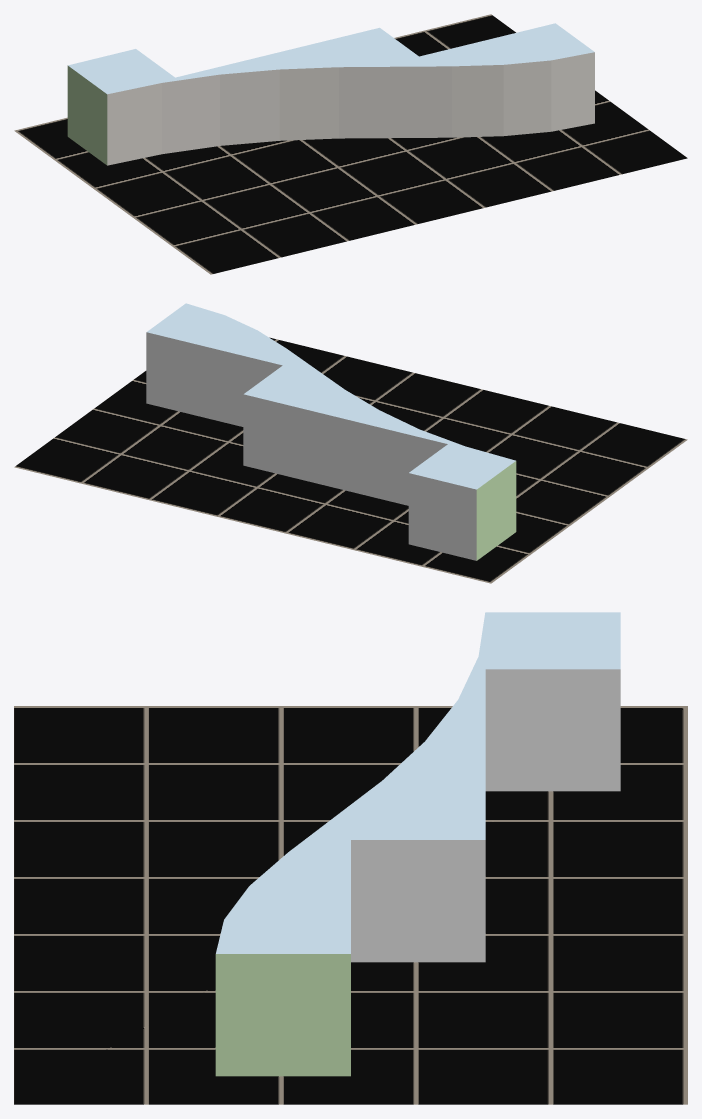
File: Wall_Esse_4x6_Mid.glb
3 views of the same model, one above another, from view 1: azimuth 30°, elevation 25°; view 2: azimuth 150°, elevation 25°; view 3: azimuth 270°, elevation 25° (orthographic). The views are drawn at different scales.
Parts seen in each view (by area): view 1: Floor, Wall_Esse_4x6_Mid; view 2: Floor, Wall_Esse_4x6_Mid; view 3: Floor, Wall_Esse_4x6_Mid.
Part boxes in pixels (left/top/right/bottom): Floor: left=14, top=14, right=687, bottom=274; Wall_Esse_4x6_Mid: left=67, top=23, right=594, bottom=165; Floor: left=14, top=337, right=687, bottom=583; Wall_Esse_4x6_Mid: left=146, top=303, right=516, bottom=560; Floor: left=14, top=706, right=687, bottom=1104; Wall_Esse_4x6_Mid: left=215, top=612, right=620, bottom=1076.
Size of the model in its own units: 700 by 100 by 500.
Materials: 5 (1 with a texture image).
